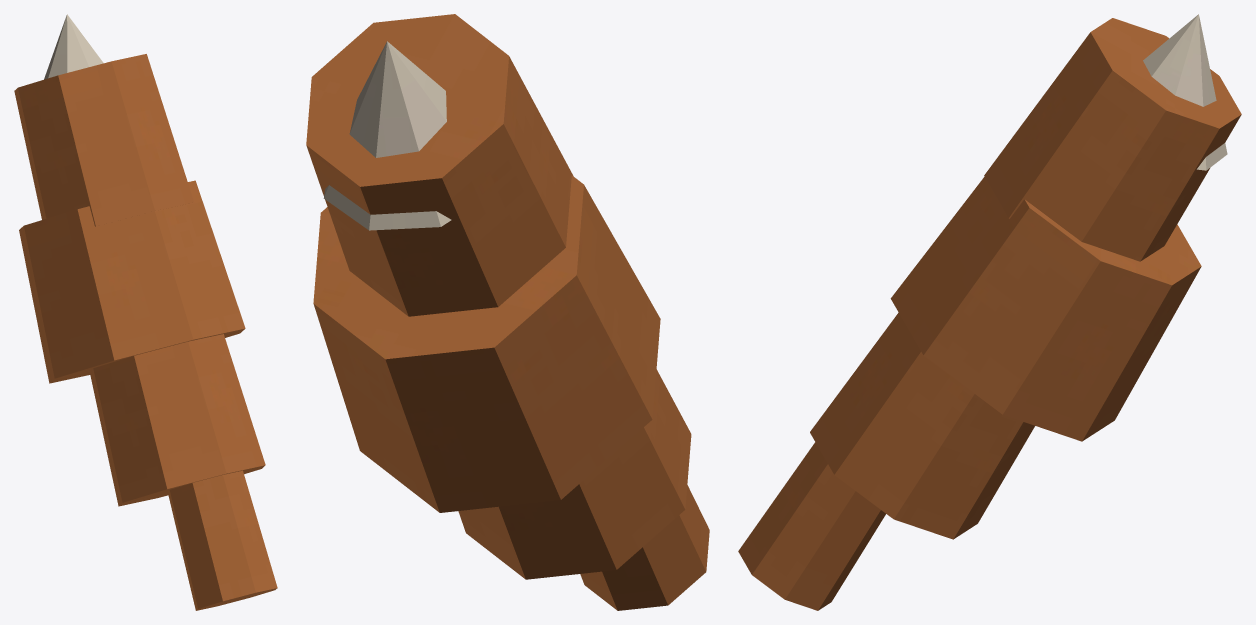
The model's file is acc_tail_fox.glb.
The picture shows the model from 3 angles, left to right: view 1: azimuth 30°, elevation 25°; view 2: azimuth 150°, elevation 25°; view 3: azimuth 270°, elevation 25°; orthographic projection. The views are drawn at different scales.
Visible parts, largest first — view 1: acc_tail_fox; view 2: acc_tail_fox; view 3: acc_tail_fox.
Part boxes in pixels (bbox=[...]): acc_tail_fox: bbox=[14, 14, 277, 610]; acc_tail_fox: bbox=[306, 14, 709, 610]; acc_tail_fox: bbox=[738, 14, 1241, 610].
Bounding box in the file's own units: 0.24 × 0.5957 × 0.4624.
Materials: 2 (2 with a texture image).
